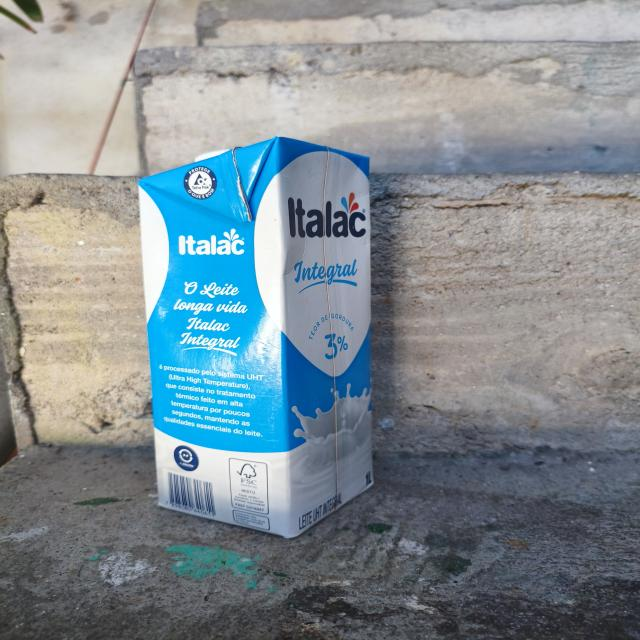Caixa de Leite: (124, 140, 422, 545)
